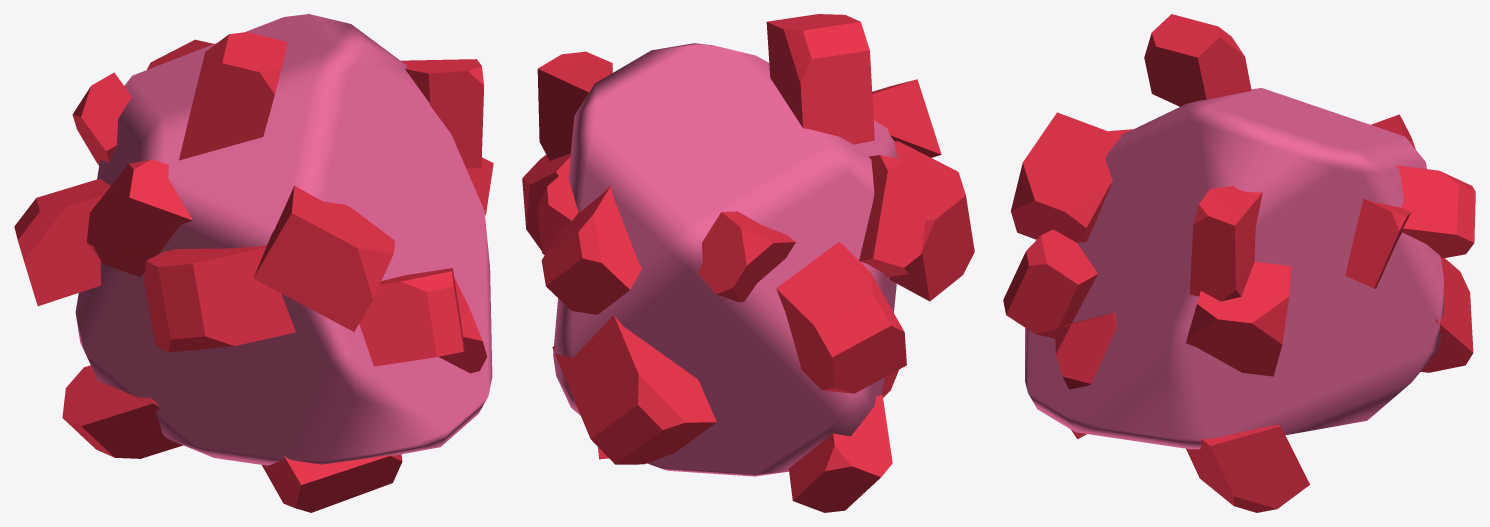
File: obj_voxelmaterialchunk_t3small.fbx
3 views of the same model, side by side, from view 1: azimuth 30°, elevation 25°; view 2: azimuth 150°, elevation 25°; view 3: azimuth 270°, elevation 25° (orthographic). The views are drawn at different scales.
Visible parts, largest first — view 1: chunk.003, clutter.003; view 2: clutter.003, chunk.003; view 3: chunk.003, clutter.003.
Boxes of the visible parts, x1=… form: chunk.003: x1=75, y1=14, x2=492, y2=465; clutter.003: x1=14, y1=32, x2=493, y2=512; clutter.003: x1=522, y1=14, x2=974, y2=512; chunk.003: x1=553, y1=43, x2=897, y2=476; chunk.003: x1=1025, y1=88, x2=1443, y2=449; clutter.003: x1=1003, y1=14, x2=1475, y2=512.
Size of the model in its own units: 5.62 by 5.85 by 6.08.
